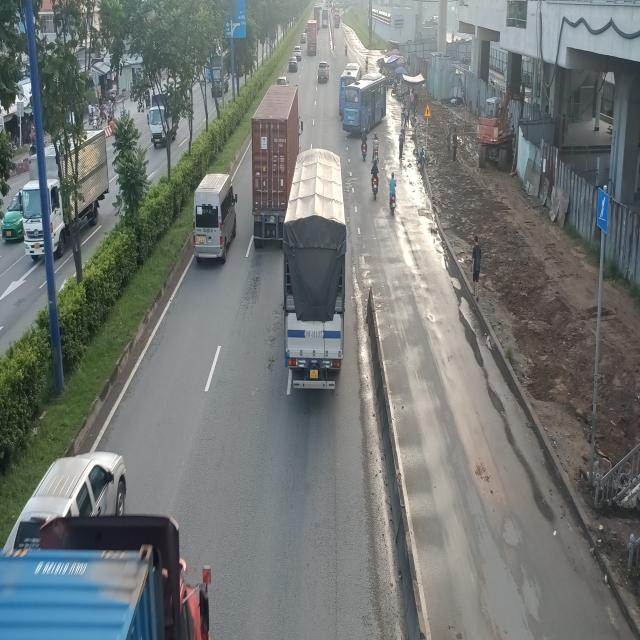coach: (344, 76, 387, 137)
container: (252, 84, 302, 246)
truck: (280, 146, 344, 394)
van: (194, 171, 240, 262)
